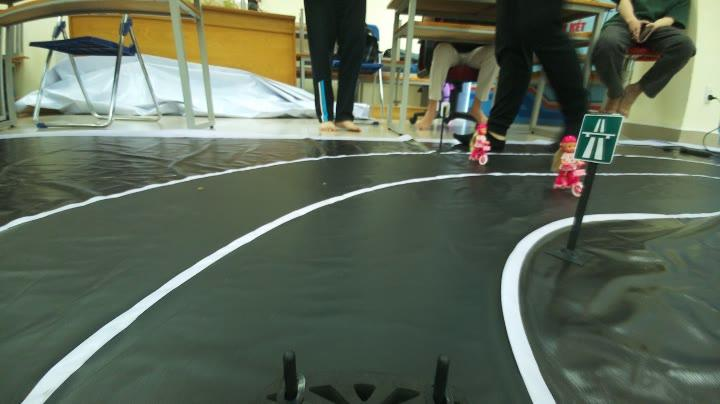highway_entry: (576, 111, 624, 164)
